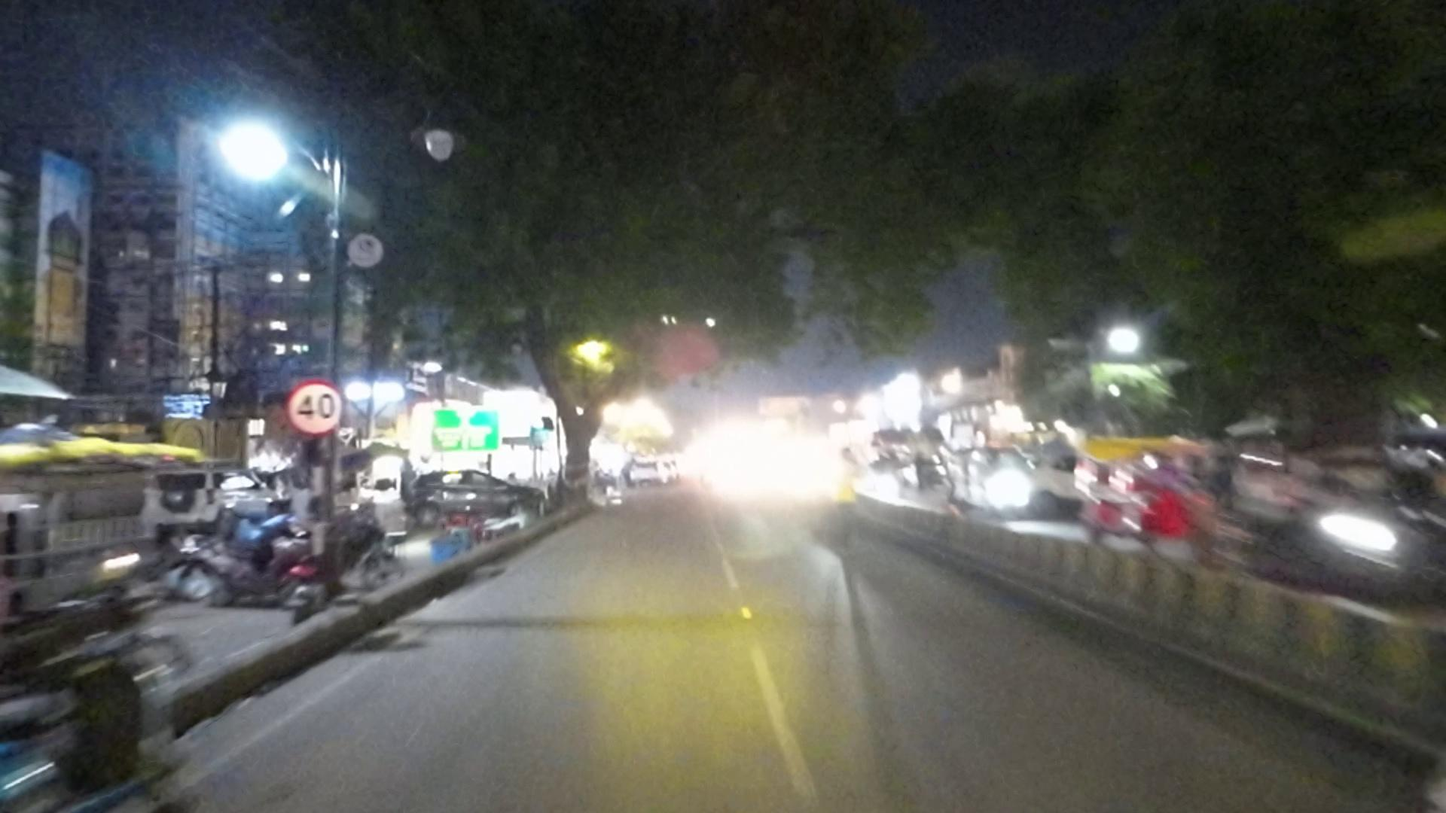streetlight: (410, 102, 472, 176)
